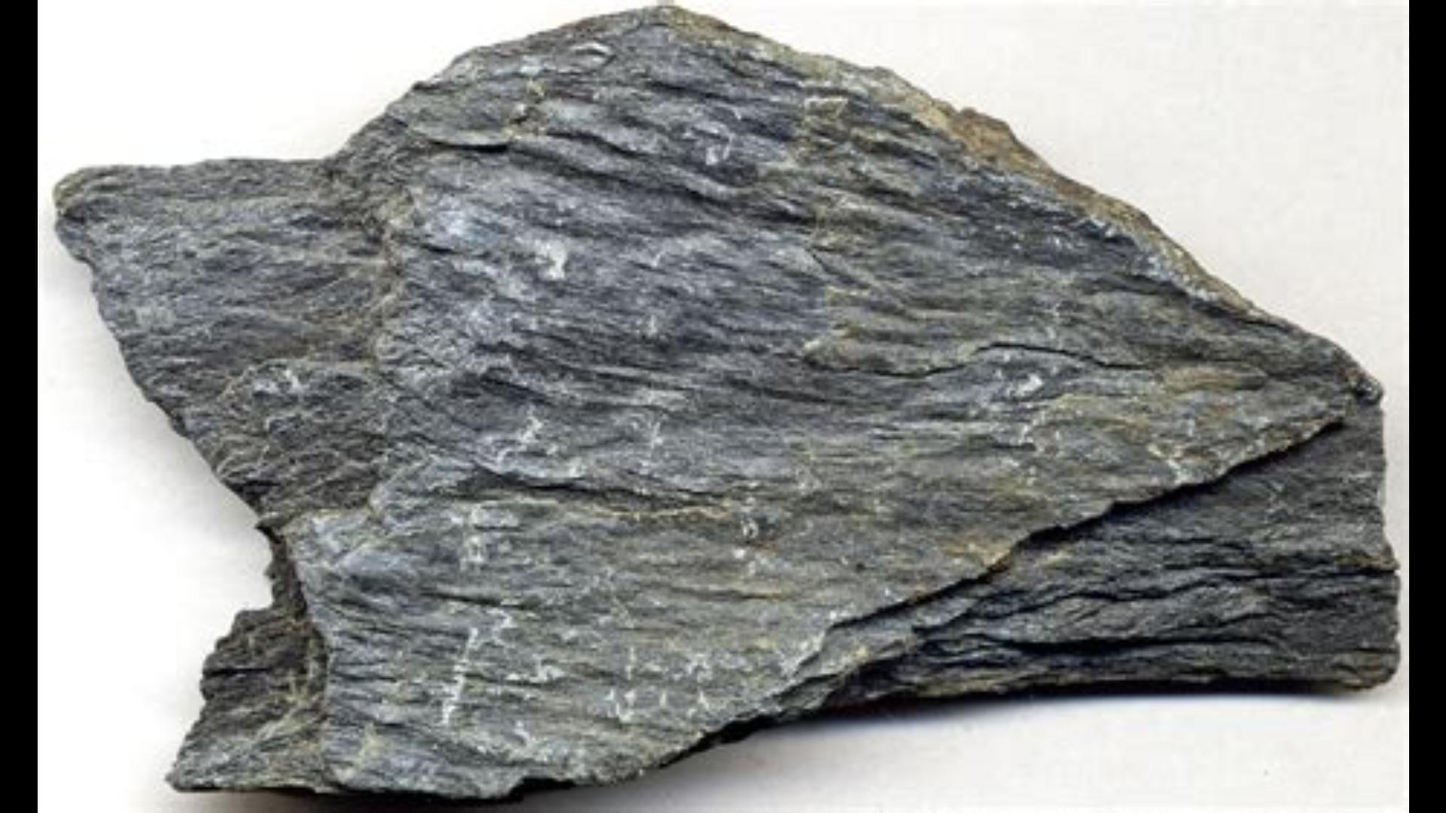rock: (57, 9, 1394, 793)
